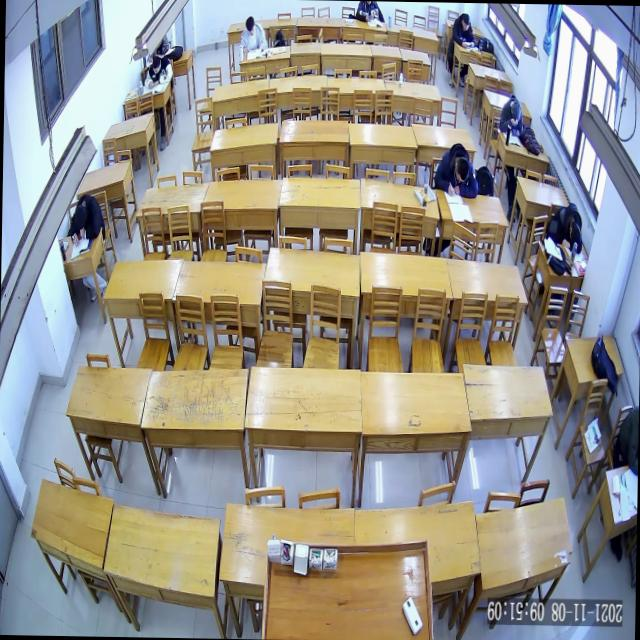bow: (433, 141, 478, 199), (69, 193, 105, 246), (548, 202, 582, 254)
down: (454, 156, 468, 182), (74, 204, 87, 230), (510, 100, 520, 122), (244, 15, 254, 36), (152, 56, 160, 74)
sit: (498, 95, 523, 137), (240, 16, 267, 53), (144, 56, 173, 88), (451, 13, 476, 48)
